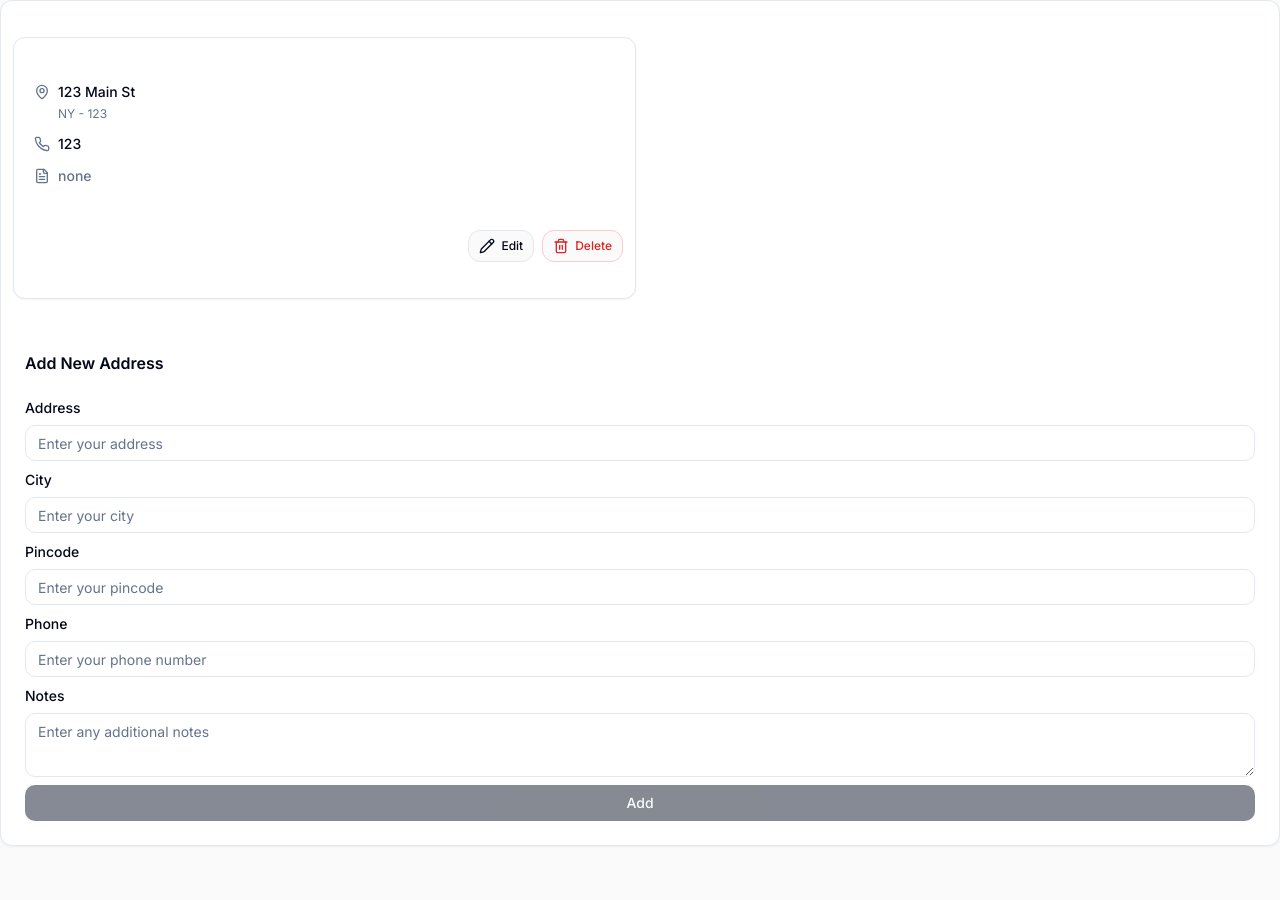
Test: Address Component › handles edit address flow
Click the button "Edit": (501, 246) [468,230,534,262]
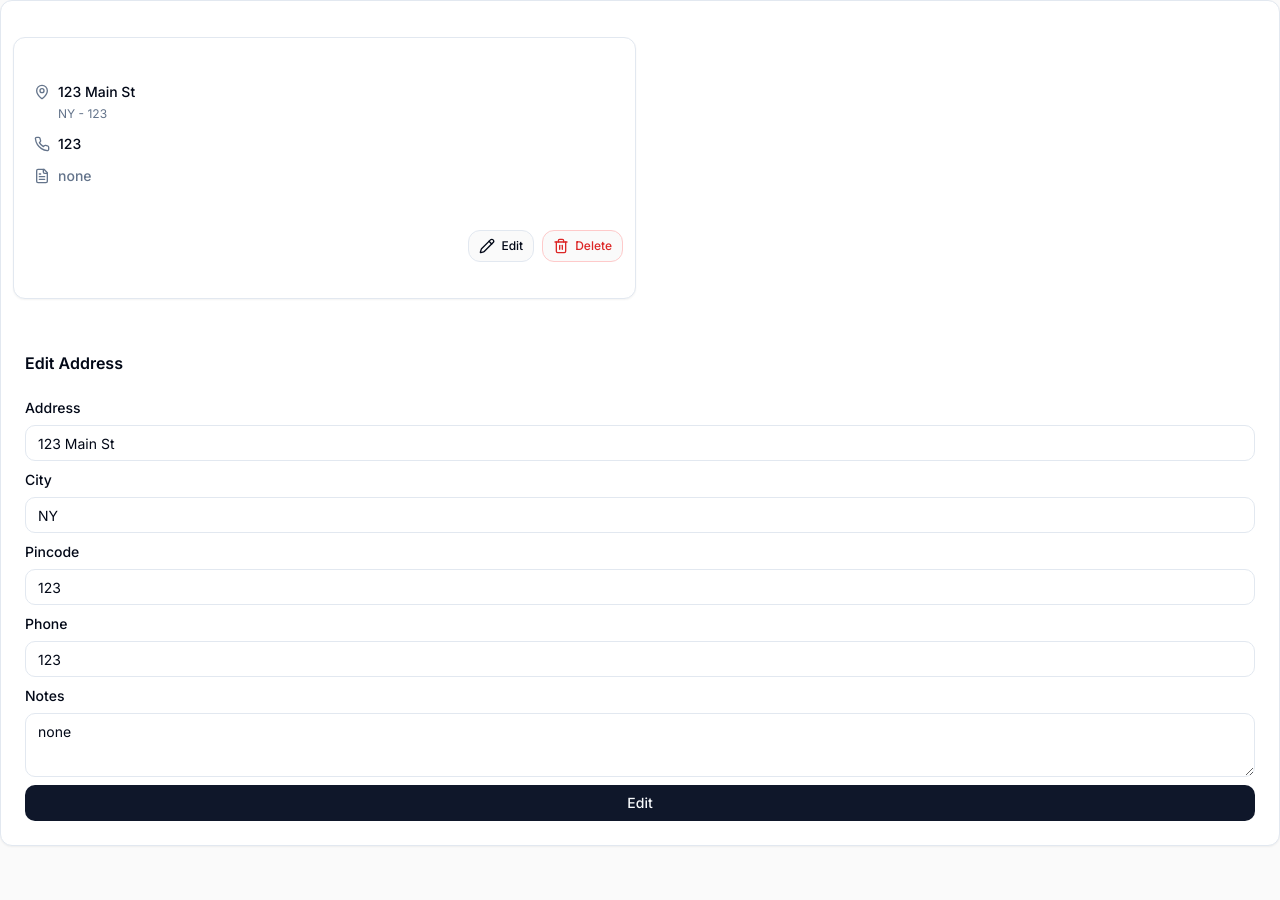
Result: the text "Edit Address" is shown at [25,353,123,373]
